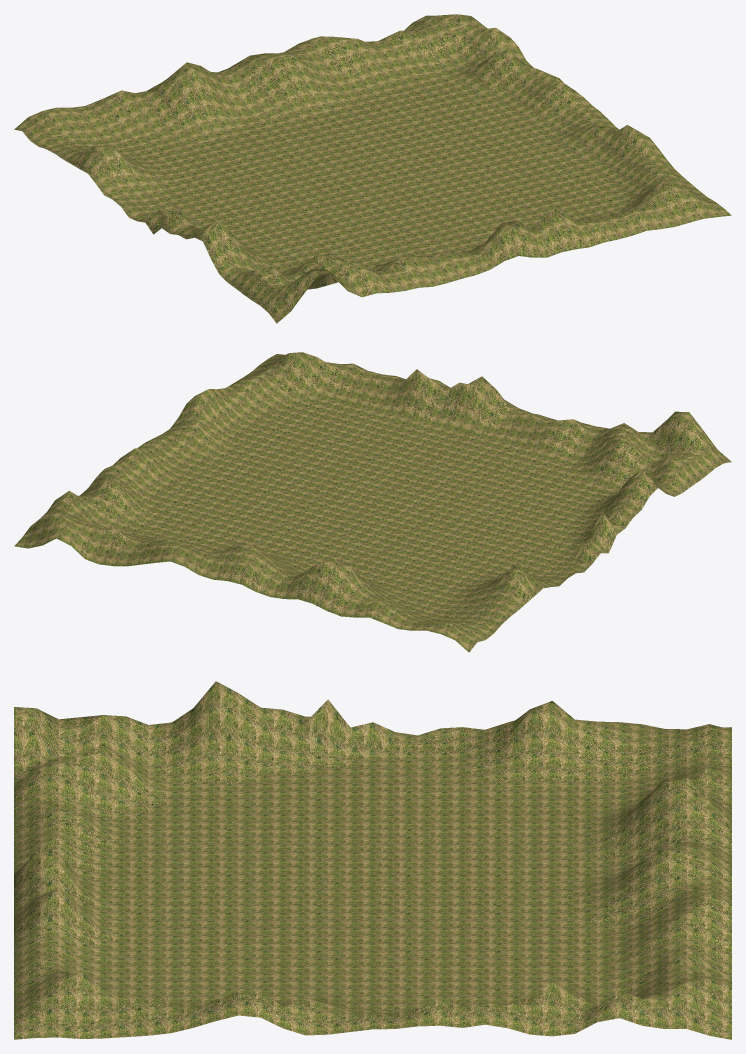
3 renders of one model, top to bottom at view 1: azimuth 30°, elevation 25°; view 2: azimuth 150°, elevation 25°; view 3: azimuth 270°, elevation 25°, orthographic. The views are drawn at different scales.
Visible parts, largest first — view 1: Mesh; view 2: Mesh; view 3: Mesh.
Part boxes in pixels (box(x1,y1,x2,y2)): Mesh: box(14, 14, 731, 323); Mesh: box(14, 352, 731, 652); Mesh: box(14, 681, 731, 1039).
Size of the model in its own units: 300 by 29.92 by 300.
1 material, 1 textured.
